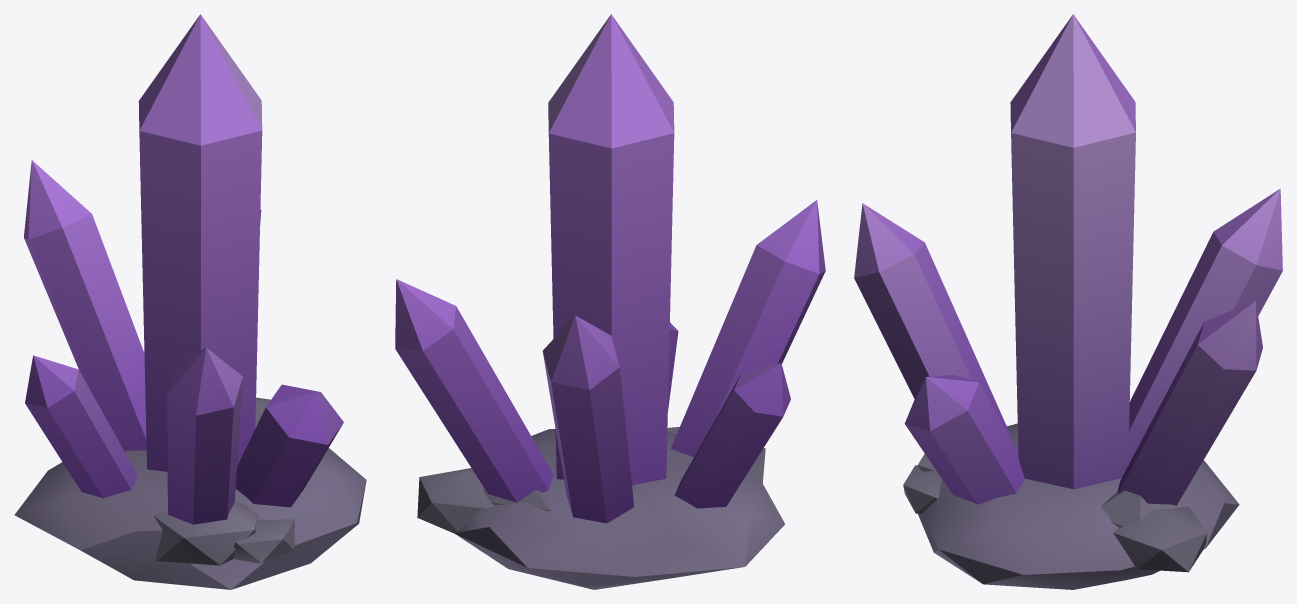
File: crystal_violet.glb
3 views of the same model, side by side, from view 1: azimuth 30°, elevation 25°; view 2: azimuth 150°, elevation 25°; view 3: azimuth 270°, elevation 25° (orthographic). The views are drawn at different scales.
Visible parts, largest first — view 1: crystal_violet_glow, crystal_violet; view 2: crystal_violet_glow, crystal_violet; view 3: crystal_violet_glow, crystal_violet.
Boxes of the visible parts, box(x1,y1,x2,y2) form: crystal_violet_glow: box(24, 14, 343, 524); crystal_violet: box(14, 397, 366, 589); crystal_violet_glow: box(395, 14, 825, 523); crystal_violet: box(417, 427, 784, 589); crystal_violet_glow: box(854, 14, 1282, 505); crystal_violet: box(903, 423, 1239, 589).
Size of the model in its own units: 1.65 by 2.62 by 1.9.
